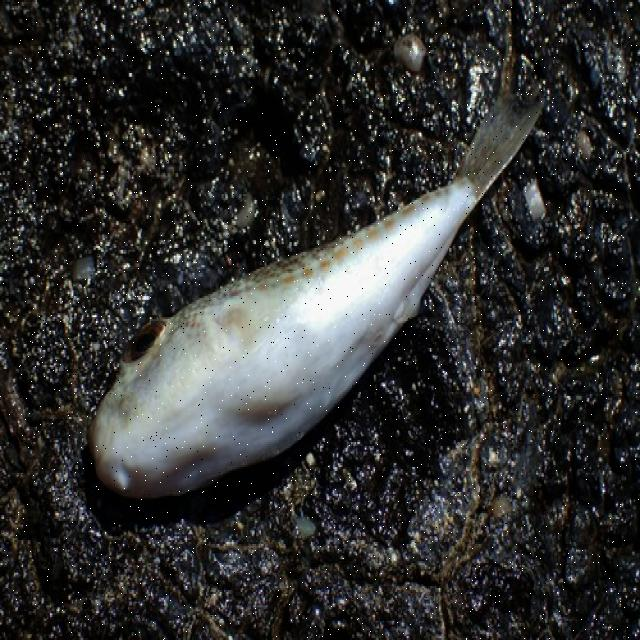Balik: (89, 99, 541, 497)
